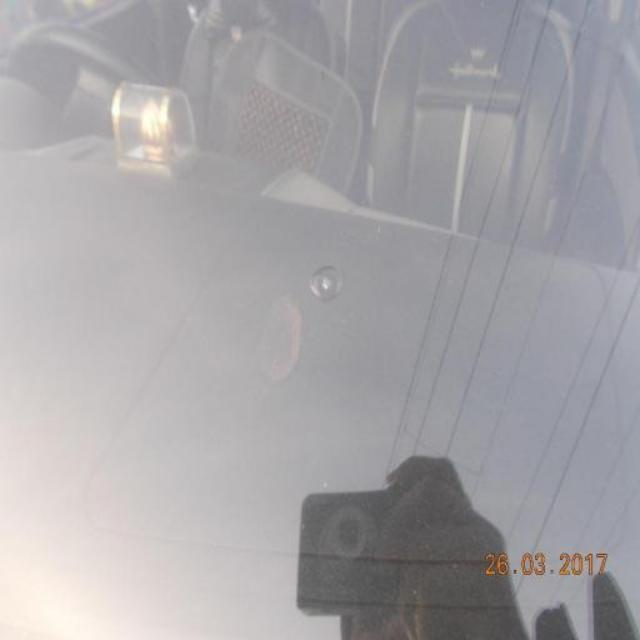glass shatter: (311, 258, 349, 309)
